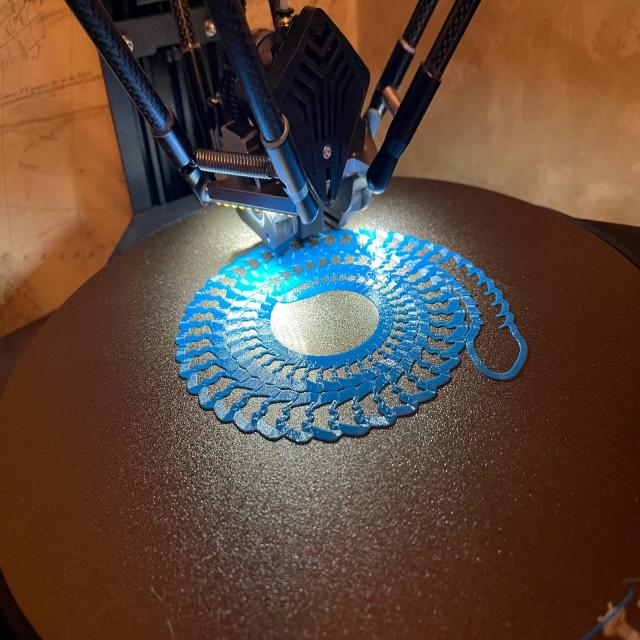Without deffect: (173, 215, 536, 450)
